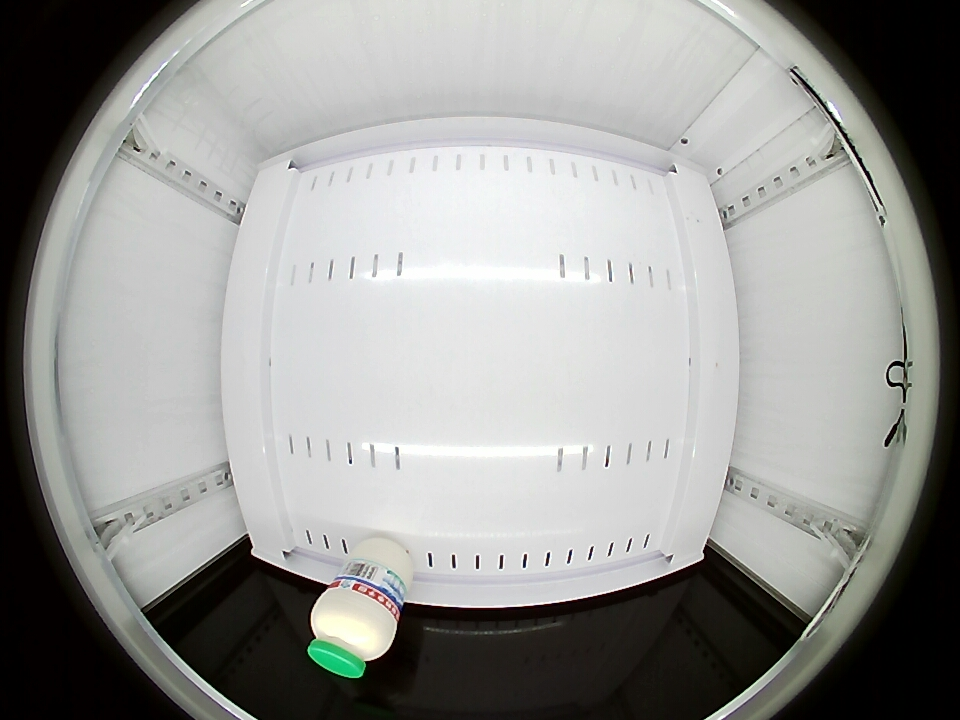liziyuan: (307, 579, 401, 678)
